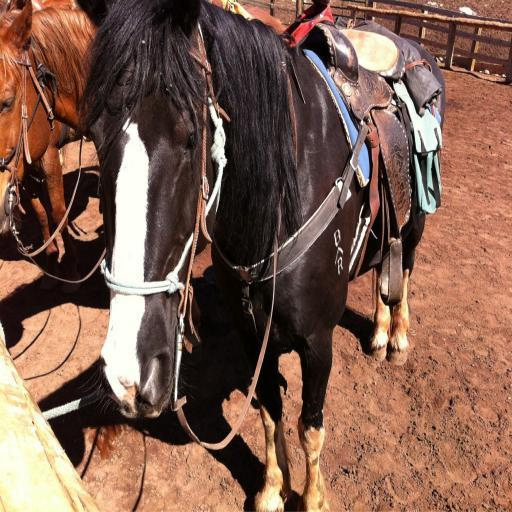horse: (67, 0, 448, 511), (0, 0, 285, 323), (0, 0, 85, 295)
